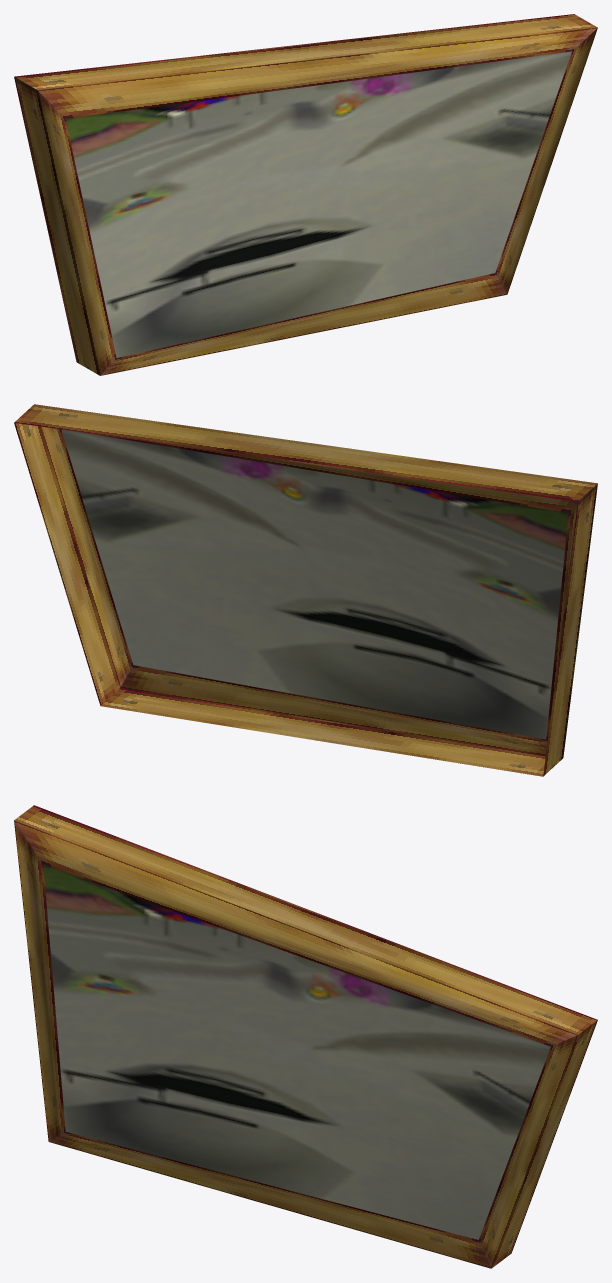
Rendered from Suburban_SkatePark_Sign.FBX.
The picture shows the model from 3 angles, top to bottom: view 1: azimuth 30°, elevation 25°; view 2: azimuth 150°, elevation 25°; view 3: azimuth 330°, elevation 25°; orthographic projection. The views are drawn at different scales.
Parts seen in each view (by area): view 1: sign; view 2: sign; view 3: sign.
Part boxes in pixels (<box>): sign: <box>14,14,597,375</box>; sign: <box>14,404,597,776</box>; sign: <box>14,805,597,1268</box>.
Bounding box in the file's own units: 349 × 190 × 39.45.
